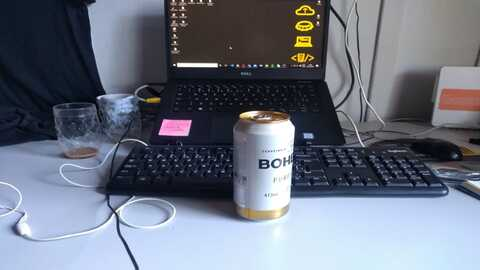bohemia: (232, 111, 293, 224)
